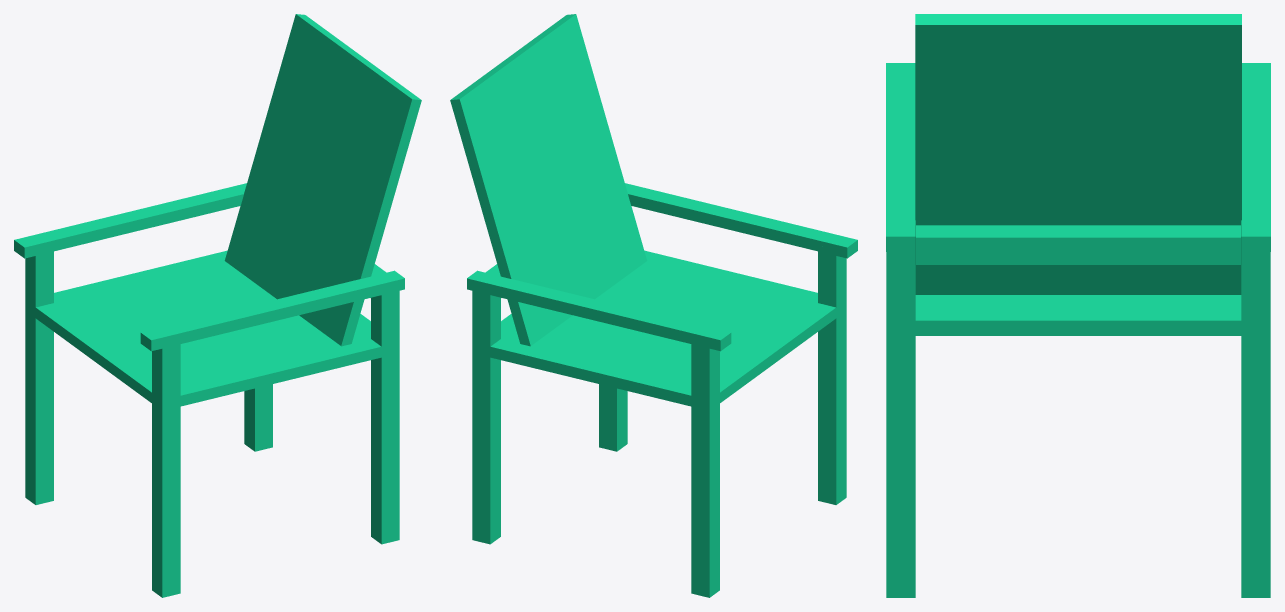
File: chair_1.glb
3 views of the same model, side by side, from view 1: azimuth 30°, elevation 25°; view 2: azimuth 150°, elevation 25°; view 3: azimuth 270°, elevation 25° (orthographic). The views are drawn at different scales.
Visible parts, largest first — view 1: chair_1_001.001; view 2: chair_1_001.001; view 3: chair_1_001.001.
Part boxes in pixels (x1,y1,x2,y2): chair_1_001.001: (14, 14, 421, 597); chair_1_001.001: (450, 14, 857, 597); chair_1_001.001: (886, 14, 1270, 597).
Bounding box in the file's own units: 0.5276 × 0.7675 × 0.4462.
